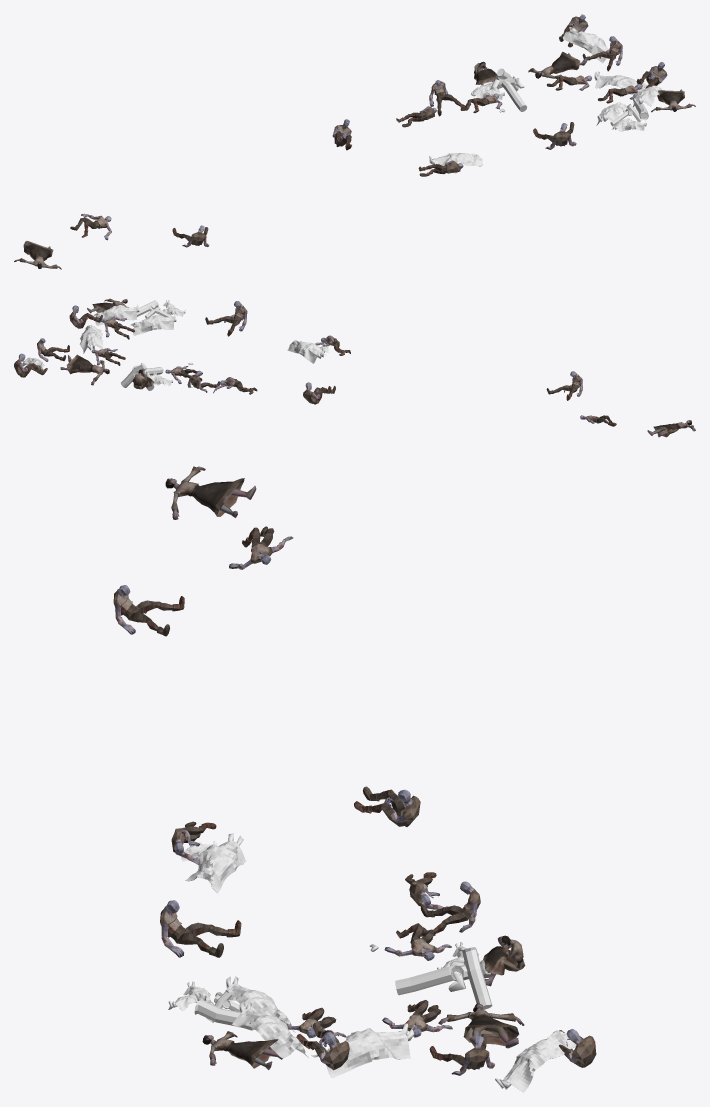
File: Dead_road.fbx
3 renders of one model, top to bottom at view 1: azimuth 30°, elevation 25°; view 2: azimuth 150°, elevation 25°; view 3: azimuth 270°, elevation 25°, orthographic. The views are drawn at different scales.
Parts seen in each view (by area): view 1: dead_body.060, Womn_2.001, Womn_2.003, ManFrozen.005, dead_body.062, Womn_2.002, dead_body.063, ManFrozen.003, ManFrozen.010, ManFrozen.004, ManFrozen, ManFrozen.002 (+2 smaller); view 2: Womn_2.001, dead_body.065, ManFrozen.005, dead_body.064, dead_body.063, dead_body.062, Womn_2.003, ManFrozen.006, ManFrozen.002, ManFrozen.004, ManFrozen.001, ManFrozen.013 (+8 smaller); view 3: dead_body.062, Womn_2.003, ManFrozen.005, dead_body.060, Womn_2.001, dead_body.063, dead_body.064, ManFrozen.002, ManFrozen.006, Womn_2.002, Womn_2.013, ManFrozen.003 (+8 smaller).
Boxes of the visible parts, <box> form: dead_body.060: <box>563,27,608,63</box>; Womn_2.001: <box>528,52,587,78</box>; Womn_2.003: <box>14,241,61,269</box>; ManFrozen.005: <box>533,122,576,149</box>; dead_body.062: <box>594,71,646,95</box>; Womn_2.002: <box>651,89,695,112</box>; dead_body.063: <box>429,153,482,166</box>; ManFrozen.003: <box>429,80,468,116</box>; ManFrozen.010: <box>70,213,111,240</box>; ManFrozen.004: <box>582,36,622,71</box>; ManFrozen: <box>636,62,667,88</box>; ManFrozen.002: <box>332,119,351,150</box>; Womn_2.001: <box>60,354,109,385</box>; dead_body.065: <box>131,314,176,335</box>; ManFrozen.005: <box>205,301,247,336</box>; dead_body.064: <box>93,304,139,325</box>; dead_body.063: <box>287,340,326,363</box>; dead_body.062: <box>79,325,103,353</box>; Womn_2.003: <box>647,420,695,437</box>; ManFrozen.006: <box>546,371,582,400</box>; ManFrozen.002: <box>303,382,335,404</box>; ManFrozen.004: <box>37,338,69,361</box>; ManFrozen.001: <box>14,353,47,377</box>; ManFrozen.013: <box>101,317,134,339</box>; dead_body.062: <box>311,1023,413,1077</box>; Womn_2.003: <box>165,466,256,519</box>; ManFrozen.005: <box>160,900,241,957</box>; dead_body.060: <box>495,1030,576,1092</box>; Womn_2.001: <box>438,1003,524,1048</box>; dead_body.063: <box>185,833,246,892</box>; dead_body.064: <box>231,1001,308,1058</box>; ManFrozen.002: <box>354,786,420,826</box>; ManFrozen.006: <box>113,585,184,636</box>; Womn_2.002: <box>202,1031,282,1069</box>; Womn_2.013: <box>483,935,525,986</box>; ManFrozen.003: <box>420,881,480,935</box>.
Bounding box in the file's own units: 2712 × 166 × 954.
Materials: 8 (6 with a texture image).
